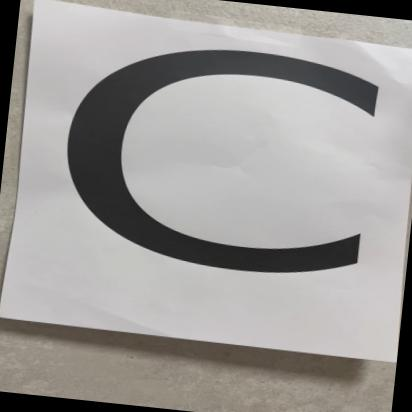seat: (10, 3, 404, 362)
